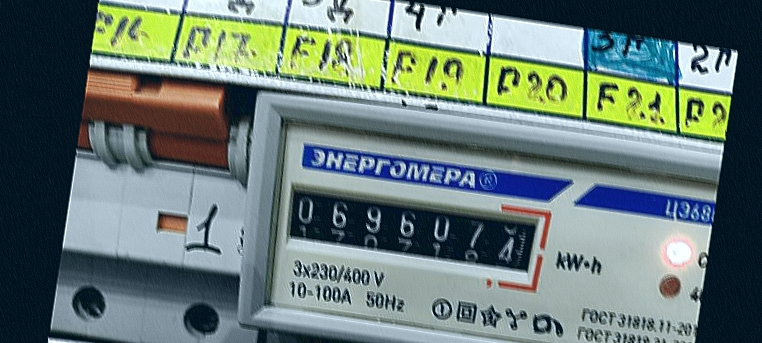0: (293, 193, 316, 224), (427, 212, 450, 241)
4: (493, 234, 515, 264)
6: (395, 207, 417, 237), (326, 199, 348, 228)
7: (462, 217, 485, 249)
9: (360, 204, 382, 234)
screen: (267, 167, 555, 294)
